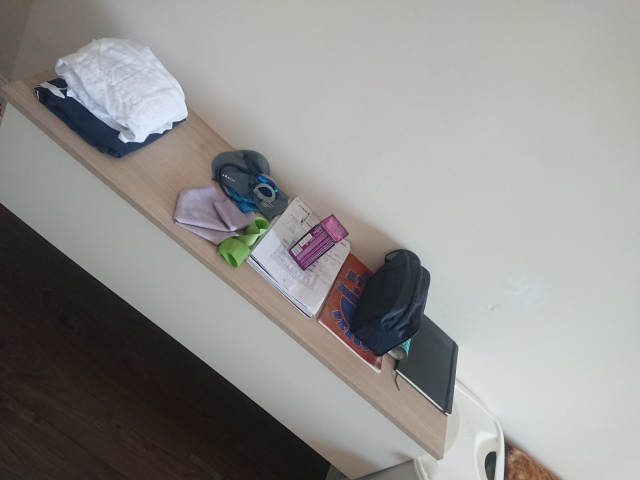Franck Black Currant Tea 60g: (286, 211, 351, 272)
